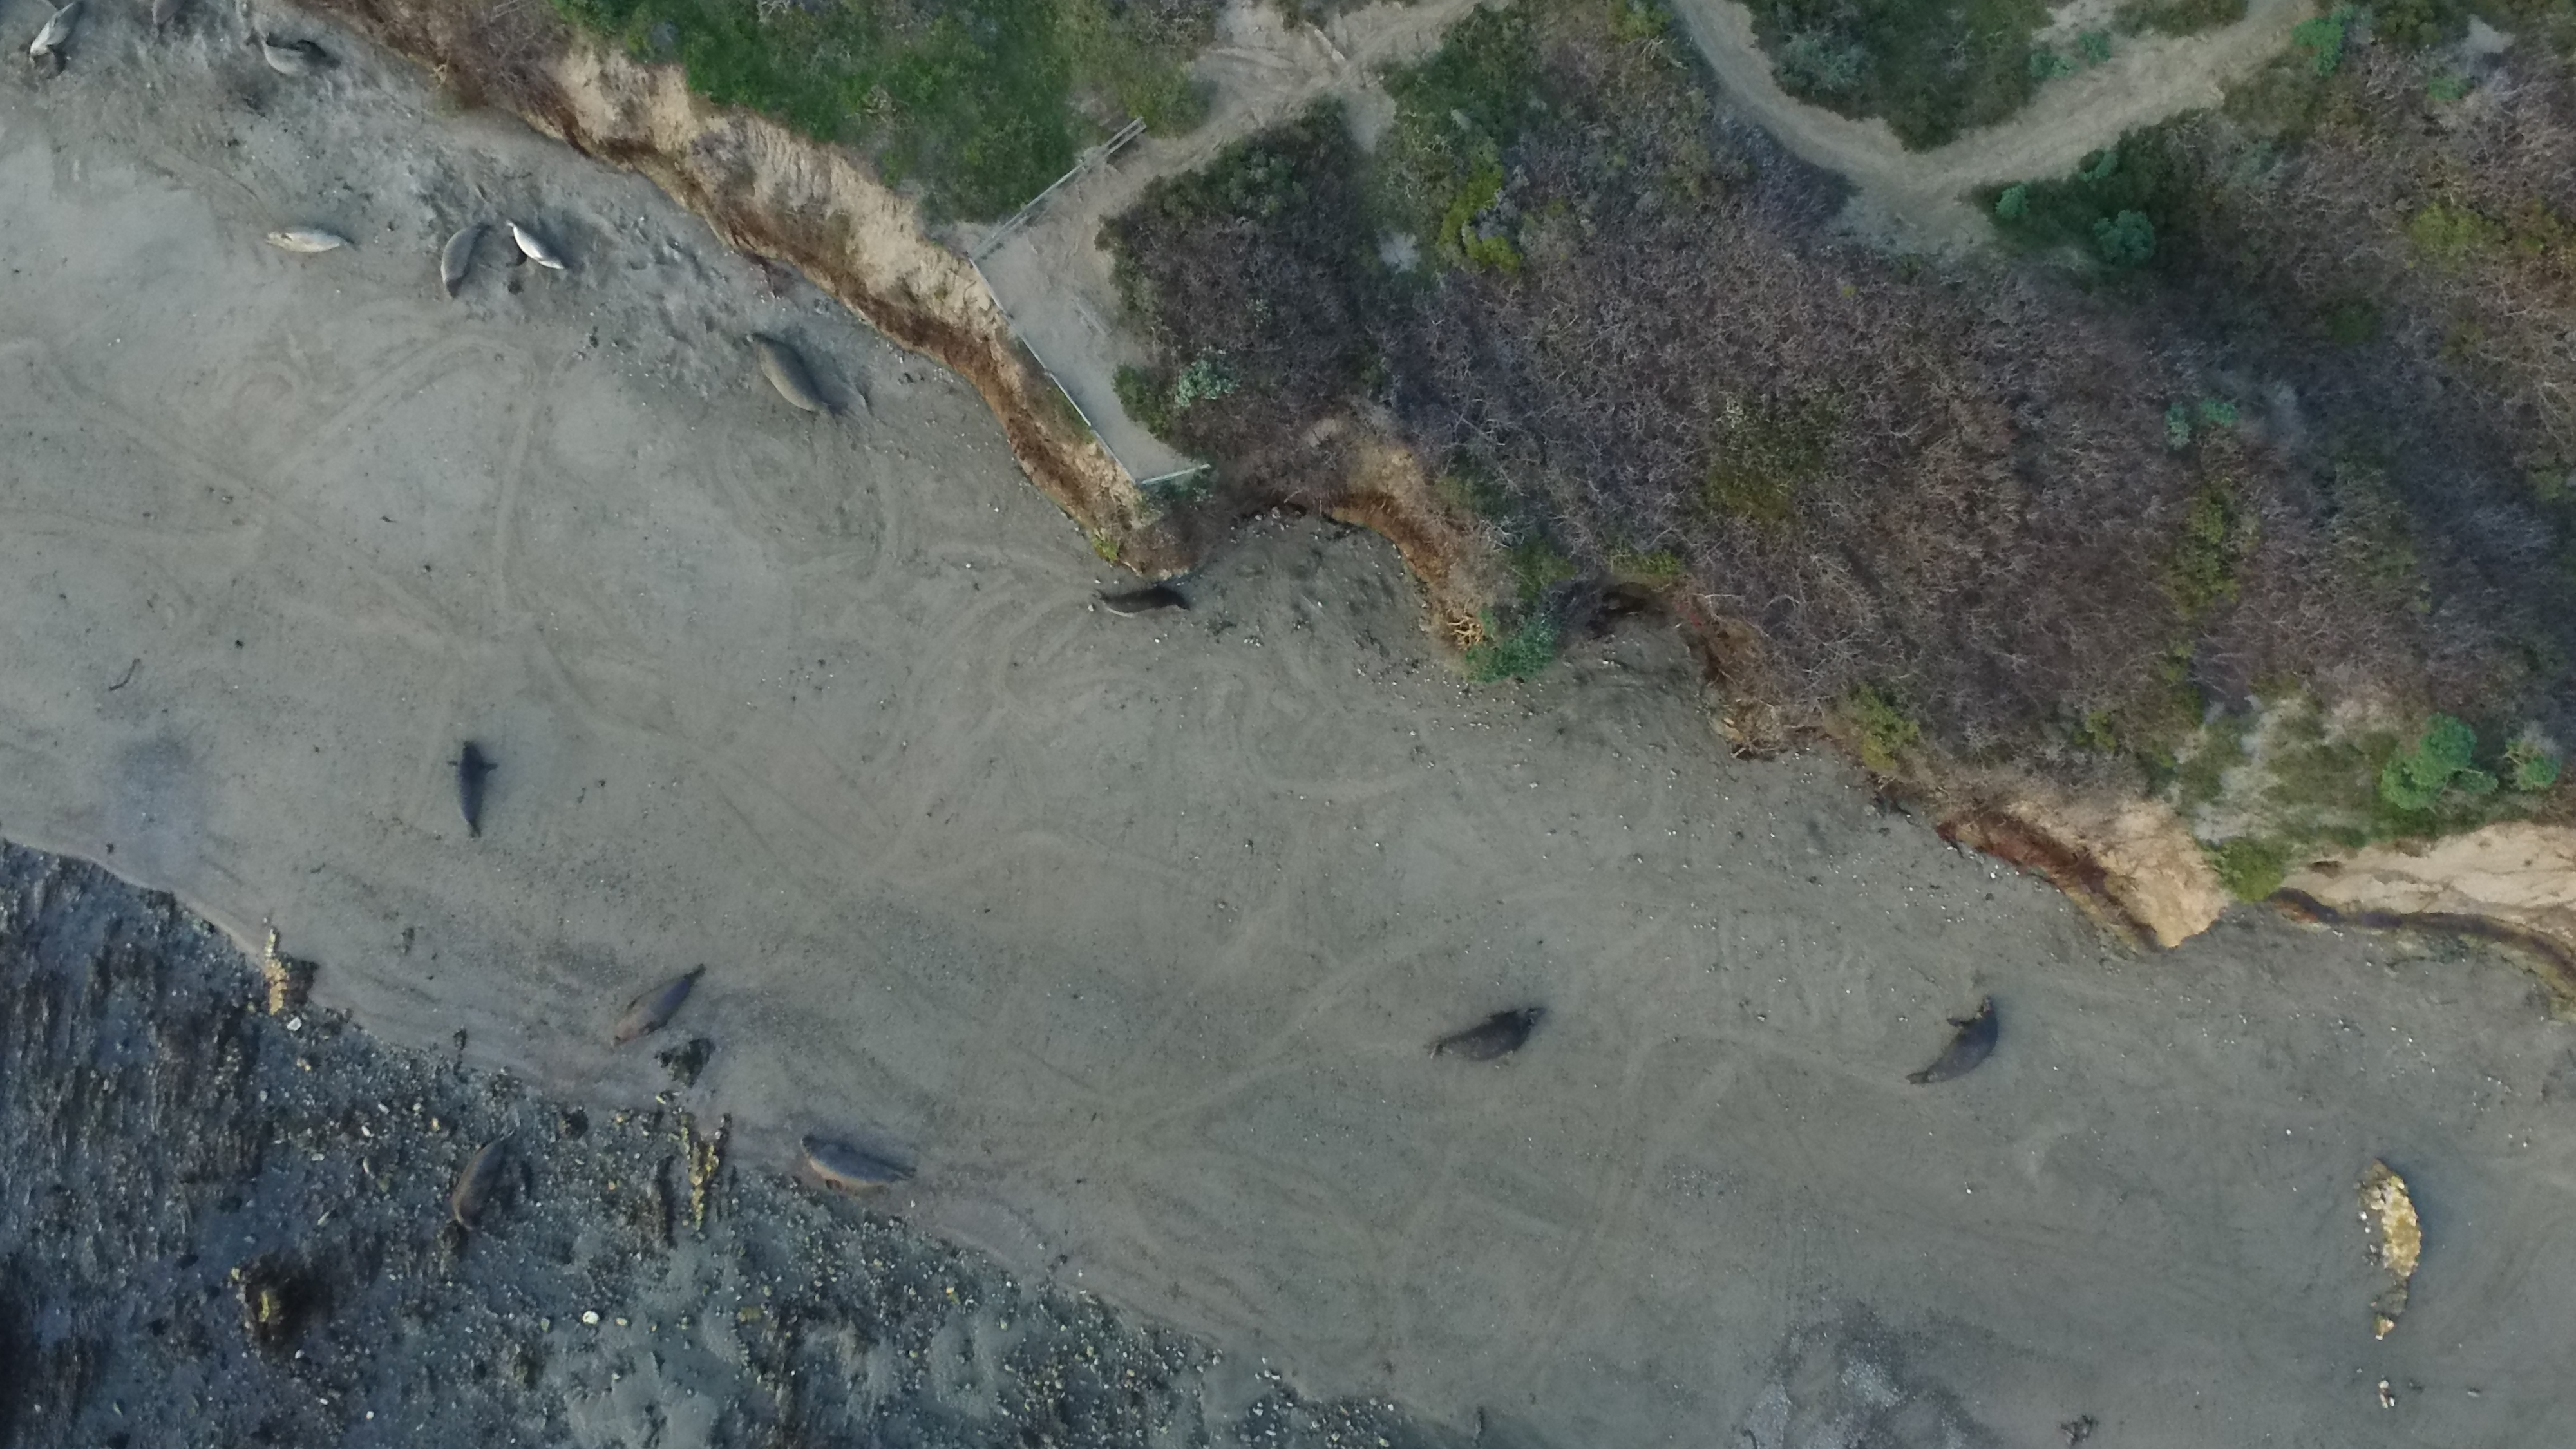adult male: (1911, 1000, 2003, 1085), (609, 968, 702, 1047), (1424, 1008, 1548, 1060), (805, 1138, 920, 1189), (453, 1132, 508, 1231)
male juvenile / female juvenile / adult female: (451, 741, 495, 840), (441, 223, 485, 294), (508, 221, 568, 269), (1090, 591, 1192, 617), (262, 225, 356, 253)
